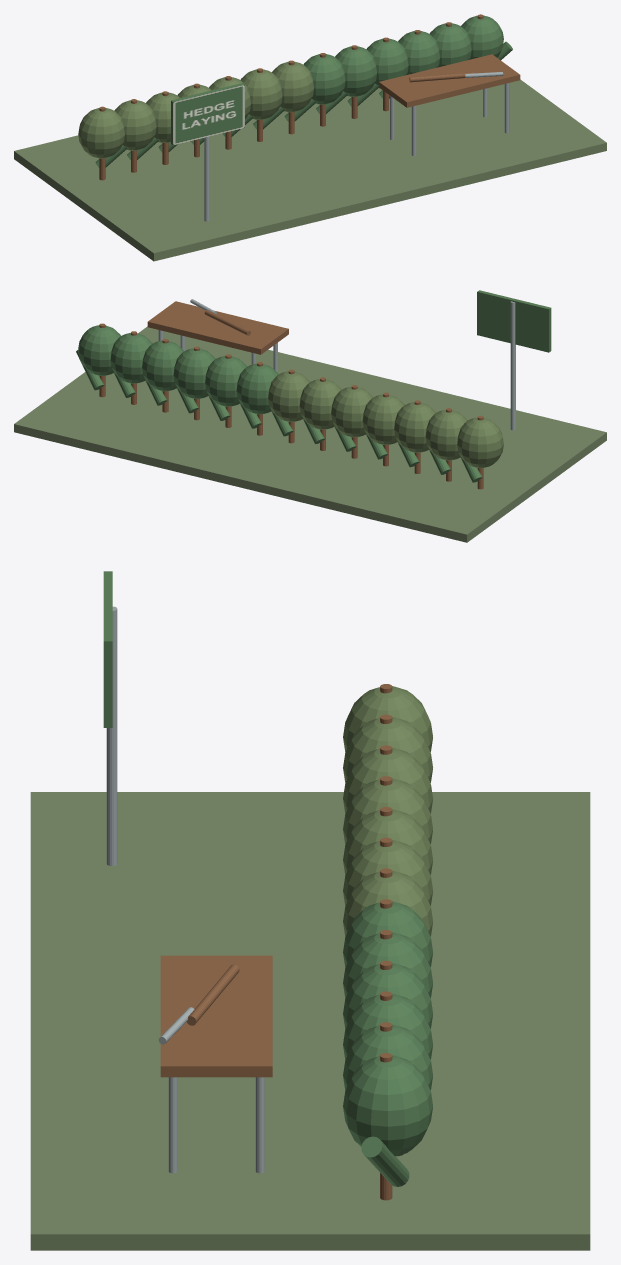
Rendered from scendance-plan-hedgelaying.glb.
3 renders of one model, top to bottom at view 1: azimuth 30°, elevation 25°; view 2: azimuth 150°, elevation 25°; view 3: azimuth 270°, elevation 25°, orthographic. The views are drawn at different scales.
Bounding box in the file's own units: 5.8 × 1.67 × 3.1.
Materials: 7 (1 with a texture image).
